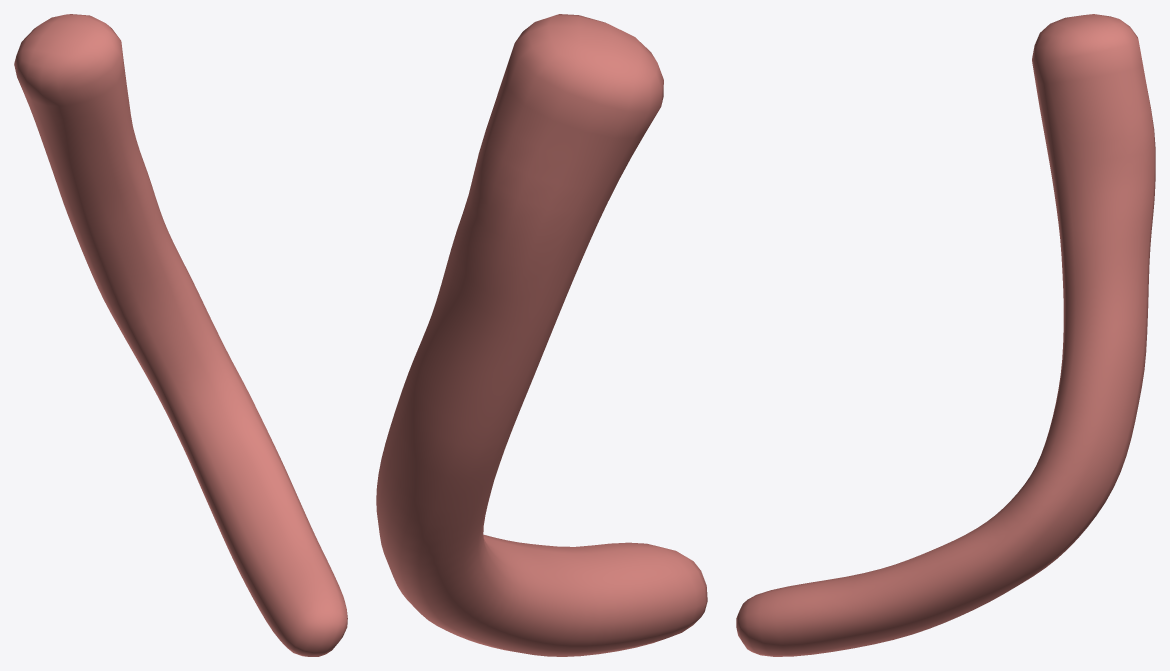
3 renders of one model, left to right at view 1: azimuth 30°, elevation 25°; view 2: azimuth 150°, elevation 25°; view 3: azimuth 270°, elevation 25°, orthographic. The views are drawn at different scales.
Parts seen in each view (by area): view 1: ZA_7af4b34461dfe703; view 2: ZA_7af4b34461dfe703; view 3: ZA_7af4b34461dfe703.
Part boxes in pixels (left/top/right/bottom): ZA_7af4b34461dfe703: left=14, top=14, right=347, bottom=656; ZA_7af4b34461dfe703: left=376, top=14, right=707, bottom=656; ZA_7af4b34461dfe703: left=736, top=14, right=1155, bottom=656.
Bounding box in the file's own units: 0.0203 × 0.0505 × 0.0328.
